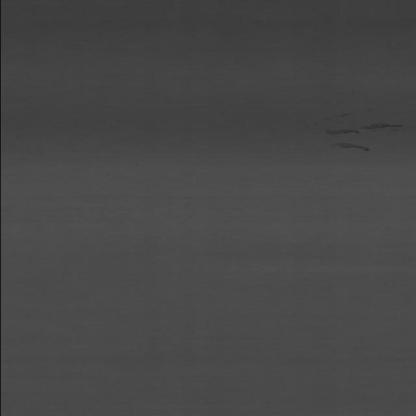water_spot: (310, 111, 401, 161)
